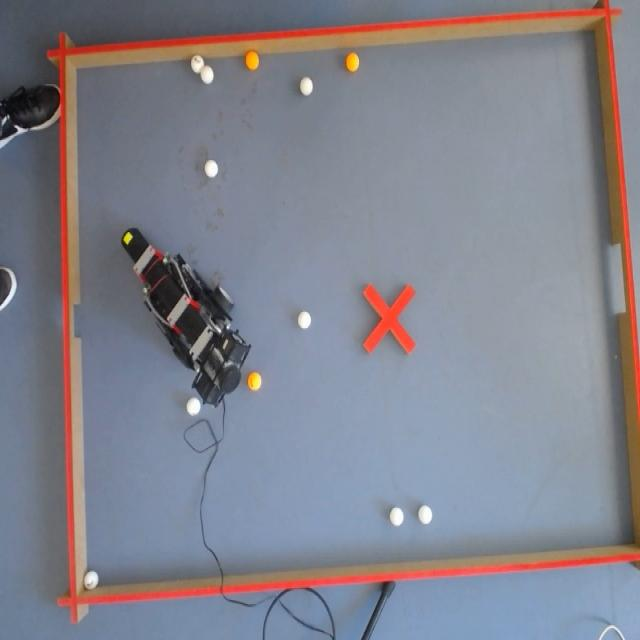orange-golf-balls: (247, 372, 261, 390), (346, 54, 359, 72), (246, 52, 258, 70)
robot: (122, 227, 250, 409)
robot-front: (122, 227, 148, 261)
white-golf-balls: (389, 507, 404, 526), (418, 506, 432, 525), (190, 55, 204, 73), (204, 160, 218, 178), (300, 76, 313, 95), (85, 571, 98, 590), (298, 311, 311, 329), (201, 66, 214, 84), (188, 398, 200, 416)
